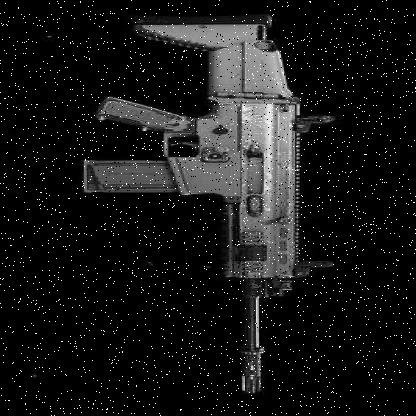rifle: (59, 6, 370, 406)
